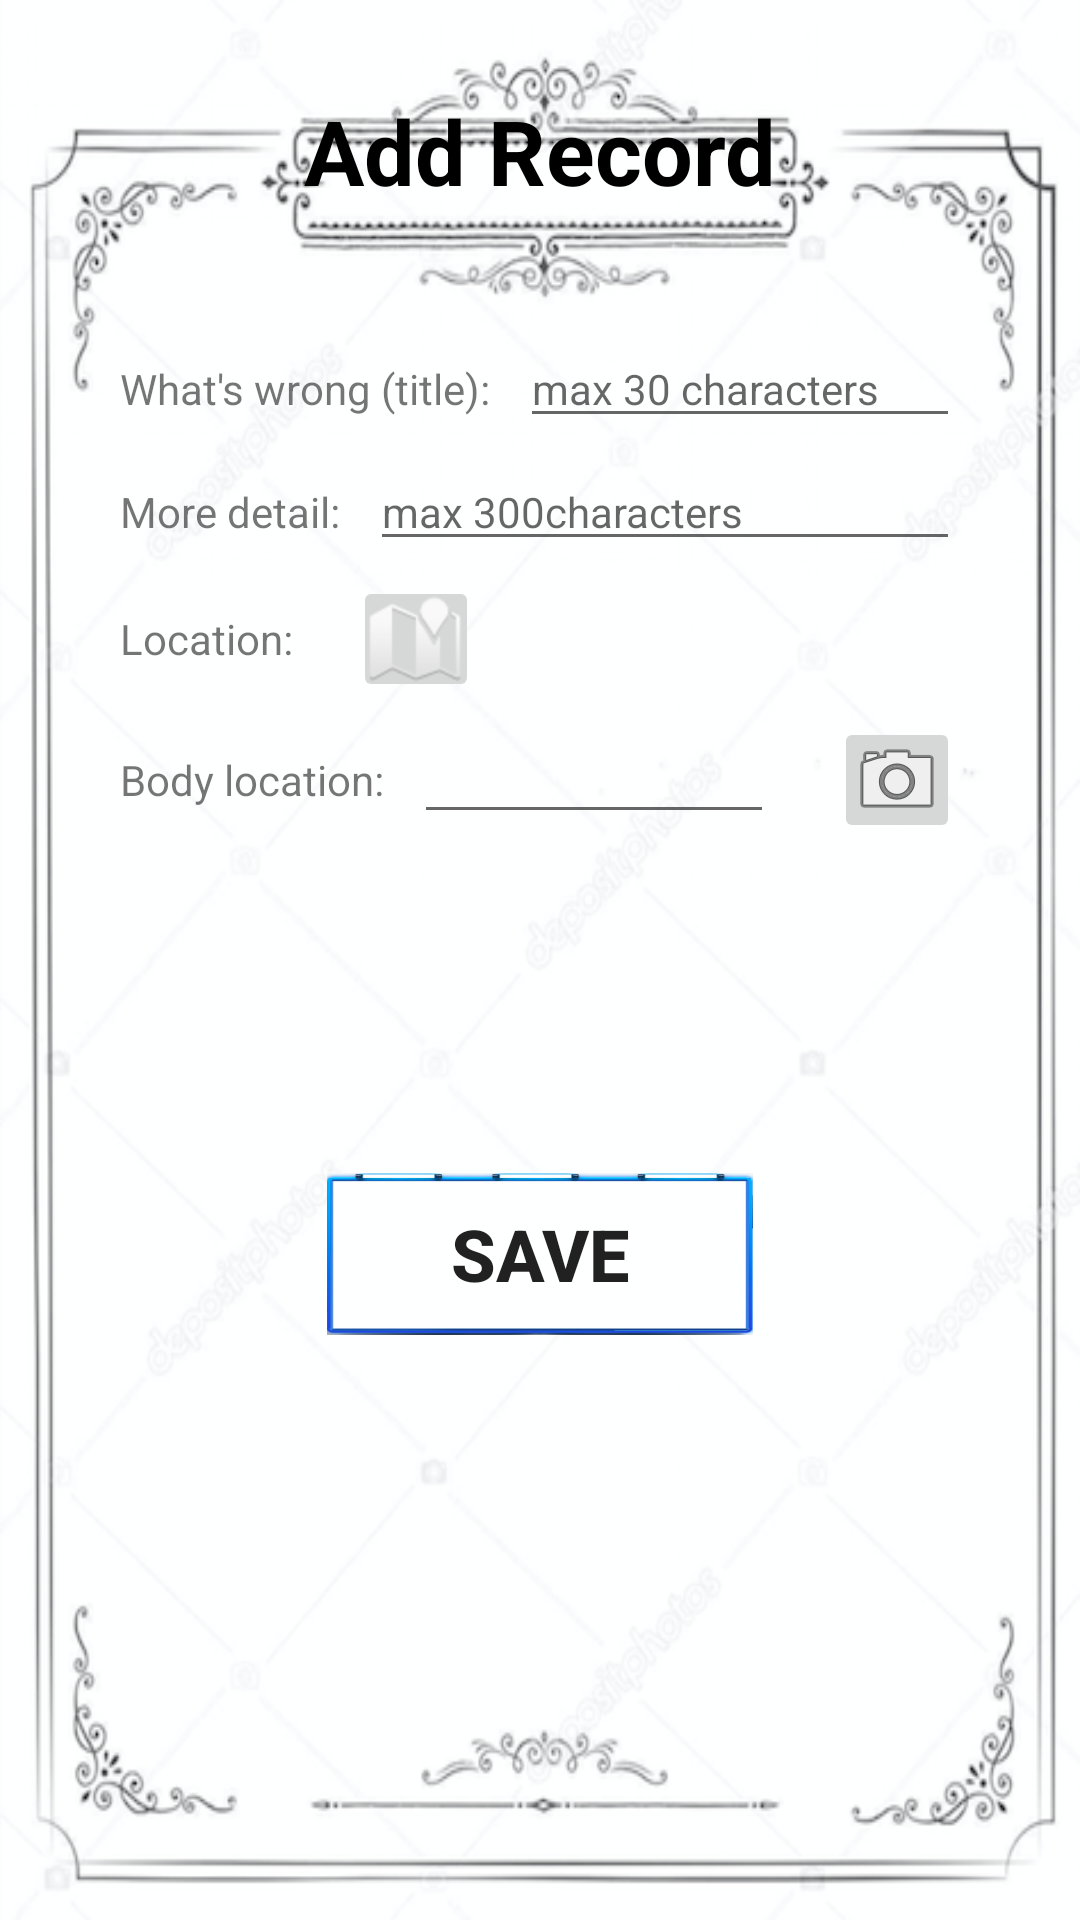

Icons on this 1080 × 1920 Android screen, each with its box as (x1, y1, x2, y2):
camera: (846, 735, 948, 825)
map: (365, 594, 467, 684)
